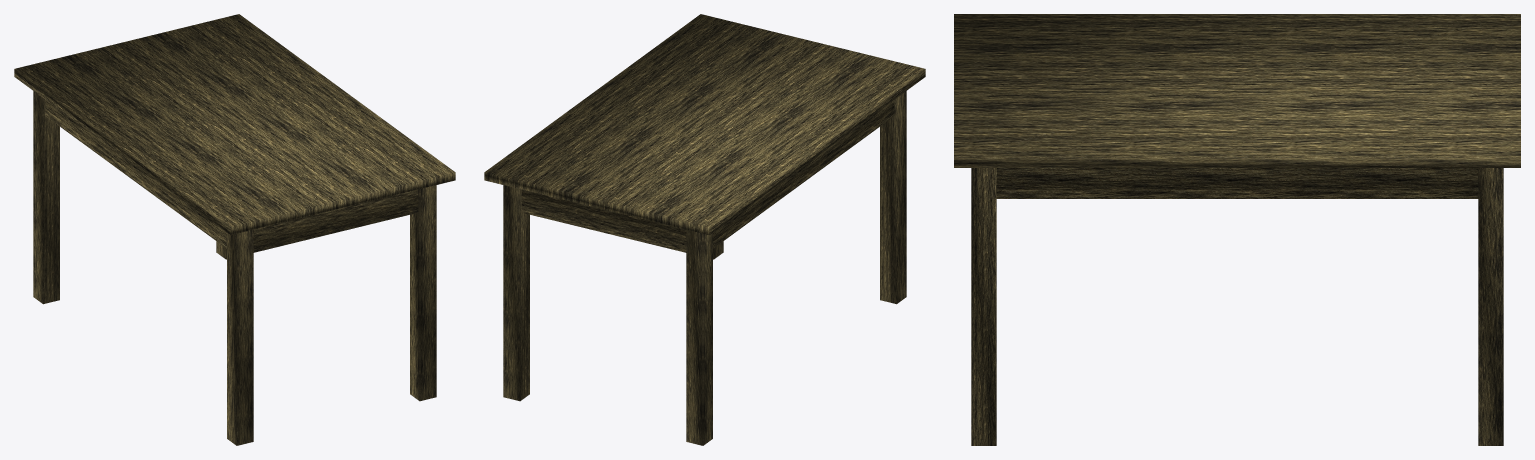
File: table_2.fbx
The picture shows the model from 3 angles, left to right: view 1: azimuth 30°, elevation 25°; view 2: azimuth 150°, elevation 25°; view 3: azimuth 270°, elevation 25°; orthographic projection. The views are drawn at different scales.
Visible parts, largest first — view 1: table_2; view 2: table_2; view 3: table_2.
Boxes of the visible parts, bbox=[...] form: table_2: bbox=[14, 14, 455, 445]; table_2: bbox=[484, 14, 925, 445]; table_2: bbox=[954, 14, 1520, 445].
Size of the model in its own units: 11.81 by 11.36 by 19.69.
